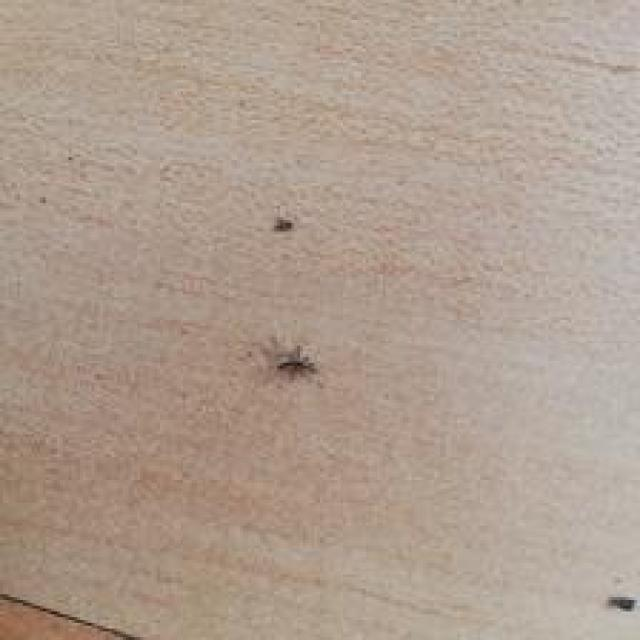Aedes albopictus: (274, 344, 317, 379)
